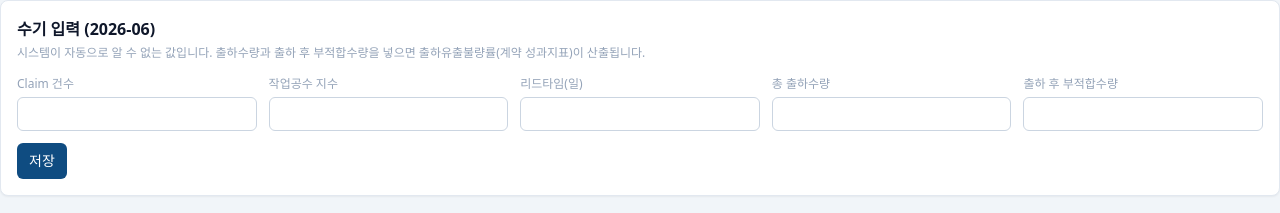
Test: KpiManualForm › 출하유출불량률을 저장 전에 미리 보여준다
Type "200000" into the number field with test id "kpi-shipped" at (892, 114), box [772,97,1011,131]
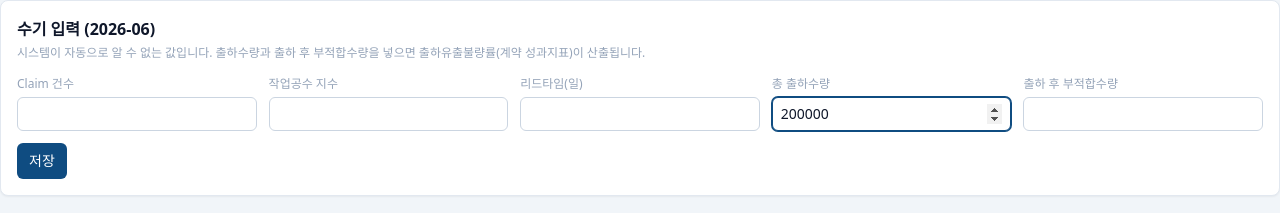
Type "150" into the number field with test id "kpi-leak" at (1143, 114), box [1023,97,1263,131]
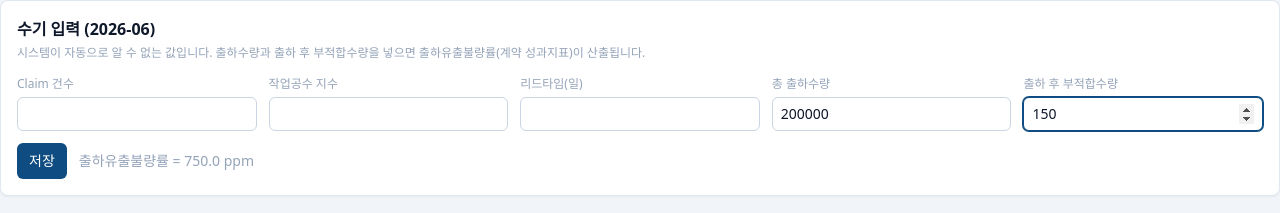
expect the text with test id "kpi-leak-preview" shows "750.0 ppm": met, box [79,151,254,171]
